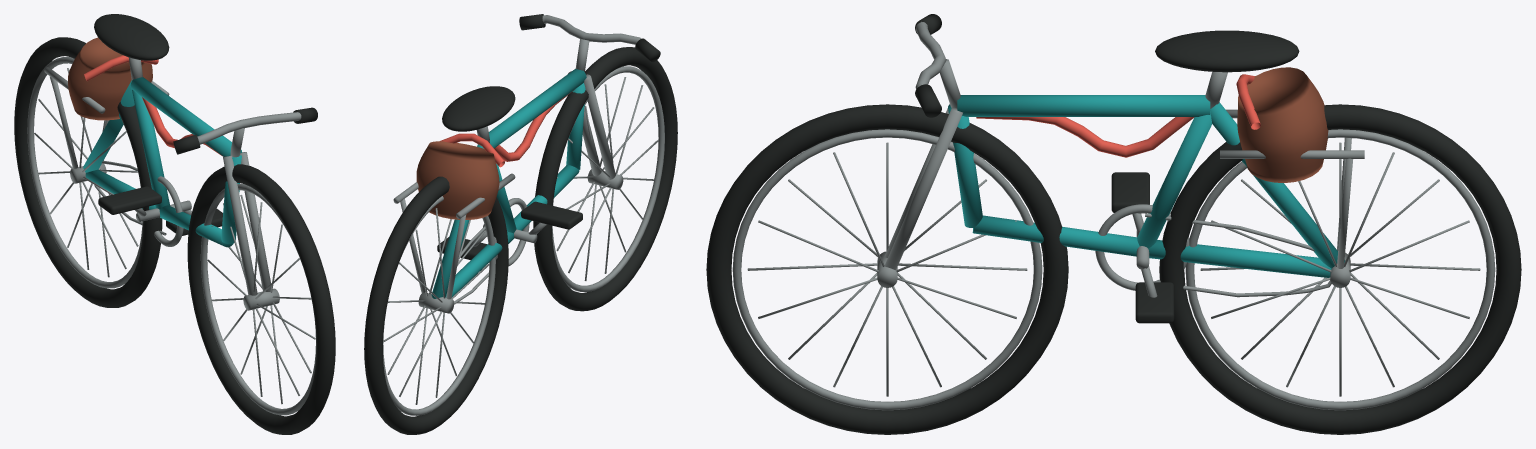
Rendered from asha-bike.glb.
The picture shows the model from 3 angles, left to right: view 1: azimuth 30°, elevation 25°; view 2: azimuth 150°, elevation 25°; view 3: azimuth 270°, elevation 25°; orthographic projection. The views are drawn at different scales.
Parts seen in each view (by area): view 1: asha_bike_front_tire, asha_bike_rear_tire, asha_bike_delivery_bag, asha_bike_saddle, asha_bike_front_rim, asha_bike_rear_rim, asha_bike_frame_04, asha_bike_frame_02, asha_bike_fork_l, asha_bike_pedal_l, asha_bike_frame_01, asha_bike_fork_r (+12 smaller); view 2: asha_bike_front_tire, asha_bike_rear_tire, asha_bike_delivery_bag, asha_bike_front_rim, asha_bike_saddle, asha_bike_rear_rim, asha_bike_frame_04, asha_bike_pedal_l, asha_bike_fork_l, asha_bike_frame_00, asha_bike_frame_01, asha_bike_handlebar (+16 smaller); view 3: asha_bike_front_tire, asha_bike_rear_tire, asha_bike_delivery_bag, asha_bike_front_rim, asha_bike_rear_rim, asha_bike_frame_04, asha_bike_saddle, asha_bike_frame_00, asha_bike_frame_02, asha_bike_frame_01, asha_bike_frame_03, asha_bike_fork_r (+9 smaller).
Part boxes in pixels (x1,y1,x2,y2): asha_bike_front_tire: [187, 164, 335, 434]; asha_bike_rear_tire: [14, 37, 162, 307]; asha_bike_delivery_bag: [68, 37, 152, 120]; asha_bike_saddle: [94, 14, 169, 60]; asha_bike_front_rim: [200, 184, 316, 415]; asha_bike_rear_rim: [27, 57, 143, 288]; asha_bike_frame_04: [130, 77, 242, 156]; asha_bike_frame_02: [132, 89, 170, 209]; asha_bike_fork_l: [223, 155, 257, 295]; asha_bike_pedal_l: [98, 186, 161, 214]; asha_bike_frame_01: [83, 80, 134, 172]; asha_bike_fork_r: [240, 152, 271, 291]; asha_bike_front_tire: [533, 47, 677, 311]; asha_bike_rear_tire: [364, 176, 508, 434]; asha_bike_delivery_bag: [416, 141, 499, 219]; asha_bike_front_rim: [552, 66, 664, 291]; asha_bike_saddle: [442, 86, 515, 131]; asha_bike_rear_rim: [383, 196, 495, 415]; asha_bike_frame_04: [488, 69, 586, 148]; asha_bike_pedal_l: [521, 201, 582, 229]; asha_bike_fork_l: [584, 74, 615, 179]; asha_bike_frame_00: [445, 231, 514, 297]; asha_bike_frame_01: [431, 144, 483, 298]; asha_bike_handlebar: [542, 15, 641, 44]; asha_bike_front_tire: [706, 104, 1068, 434]; asha_bike_rear_tire: [1159, 104, 1521, 434]; asha_bike_delivery_bag: [1237, 67, 1328, 182]; asha_bike_front_rim: [732, 129, 1042, 410]; asha_bike_rear_rim: [1185, 129, 1495, 410]; asha_bike_frame_04: [957, 95, 1210, 116]; asha_bike_saddle: [1155, 30, 1299, 72]; asha_bike_frame_00: [1148, 240, 1331, 277]; asha_bike_frame_02: [1137, 111, 1212, 248]; asha_bike_frame_01: [1210, 102, 1345, 268]; asha_bike_frame_03: [972, 215, 1139, 256]; asha_bike_fork_r: [884, 107, 962, 270].
Bounding box in the file's own units: 0.8892 × 1.81 × 3.38.
